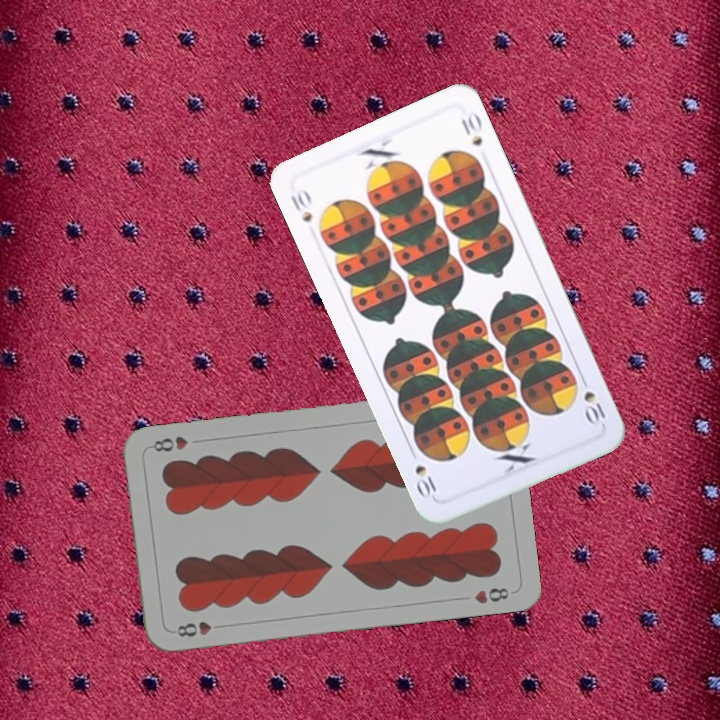H8: (172, 617, 228, 639)
S10: (579, 386, 608, 428), (286, 185, 315, 225)
